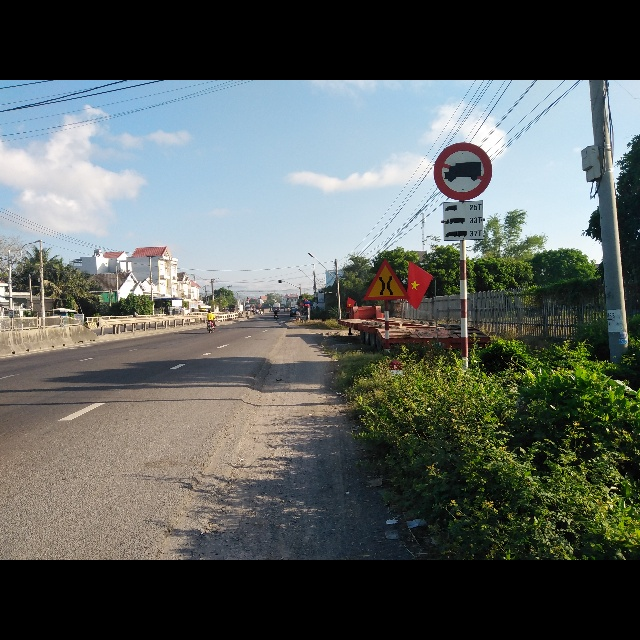Cấm xe tải: (433, 142, 494, 200)
Cầu hẹp: (364, 262, 408, 303)
